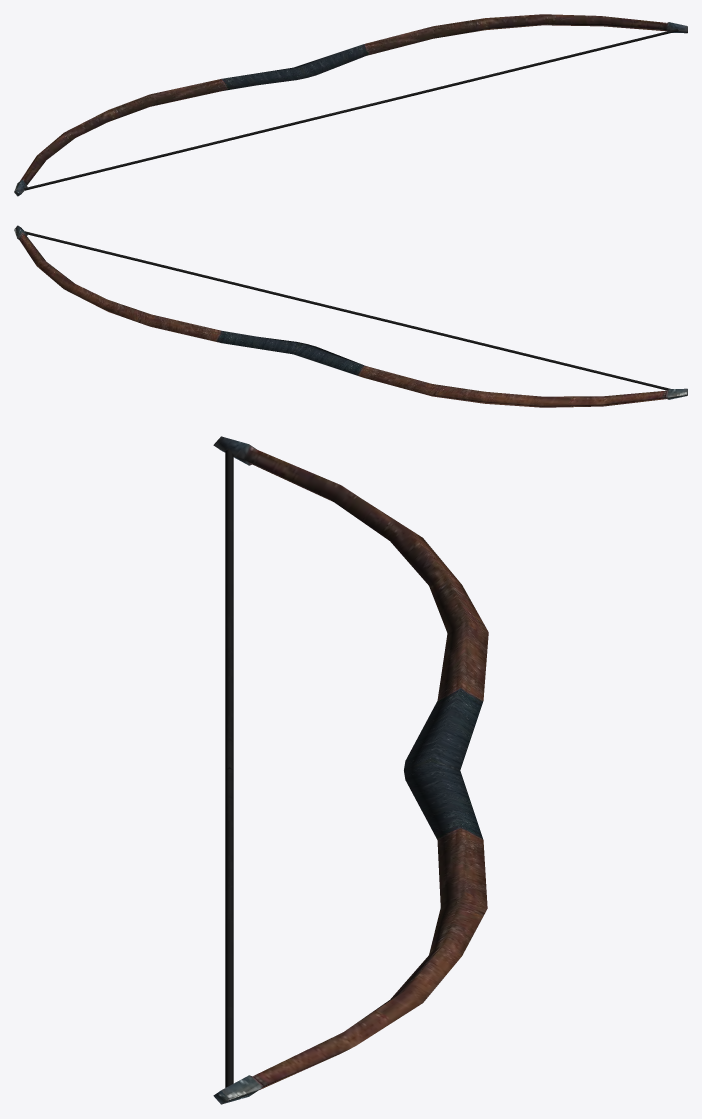
Rendered from KM_ITRW_BOW_07.glb.
The picture shows the model from 3 angles, top to bottom: view 1: azimuth 30°, elevation 25°; view 2: azimuth 150°, elevation 25°; view 3: azimuth 270°, elevation 25°; orthographic projection. The views are drawn at different scales.
Parts seen in each view (by area): view 1: KM_ITRW_BOW_07; view 2: KM_ITRW_BOW_07; view 3: KM_ITRW_BOW_07.
Boxes of the visible parts, x1=… form: KM_ITRW_BOW_07: x1=14, y1=14, x2=687, y2=196; KM_ITRW_BOW_07: x1=14, y1=225, x2=687, y2=407; KM_ITRW_BOW_07: x1=213, y1=436, x2=488, y2=1104.
Size of the model in its own units: 2 by 0.0357 by 0.3546.
1 material, 1 textured.
